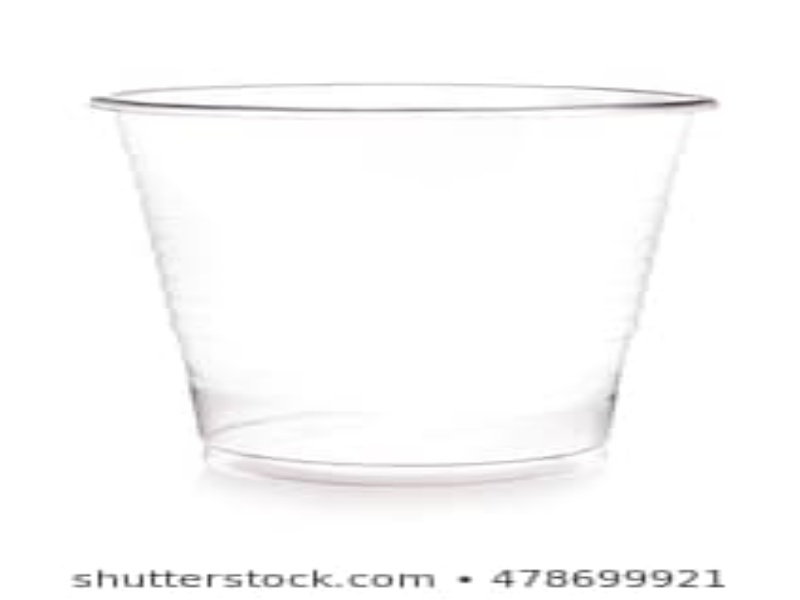plastic-cup: (86, 84, 722, 491)
